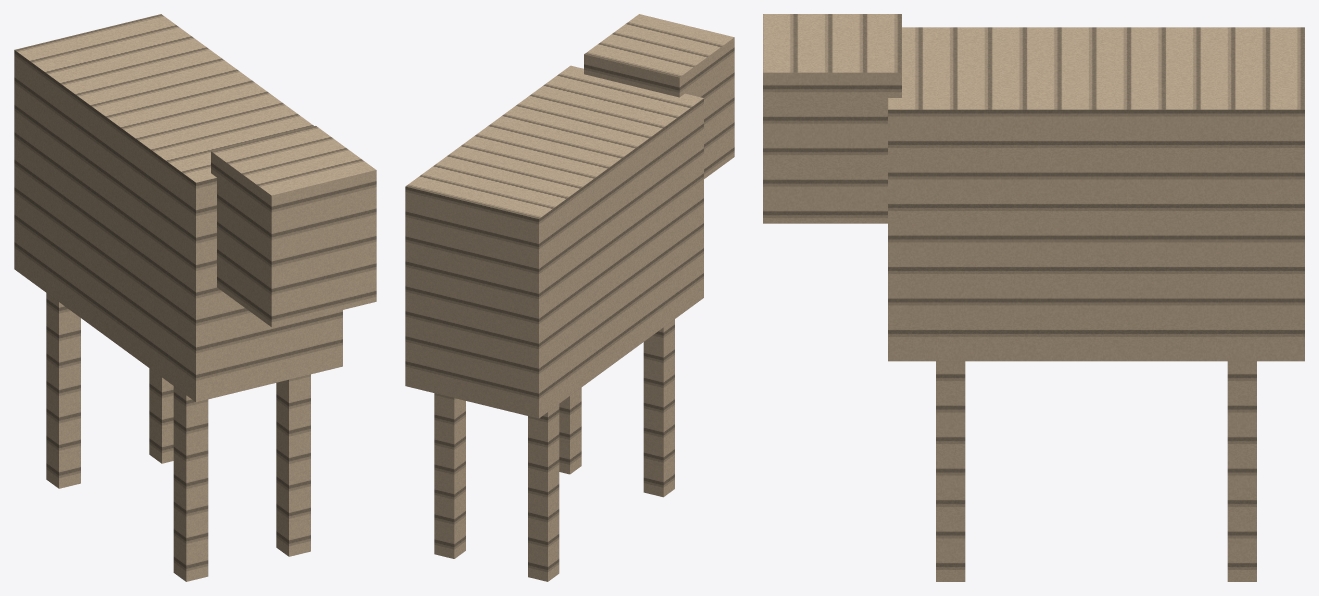
The model's file is animal_cow.glb.
The picture shows the model from 3 angles, left to right: view 1: azimuth 30°, elevation 25°; view 2: azimuth 150°, elevation 25°; view 3: azimuth 270°, elevation 25°; orthographic projection. The views are drawn at different scales.
Parts seen in each view (by area): view 1: animal_cow-col; view 2: animal_cow-col; view 3: animal_cow-col.
Part boxes in pixels (left/top/right/bottom): animal_cow-col: left=14, top=14, right=376, bottom=581; animal_cow-col: left=405, top=14, right=734, bottom=581; animal_cow-col: left=763, top=14, right=1304, bottom=581.
Size of the model in its own units: 0.7 by 2 by 1.95.
Materials: 1 (1 with a texture image).
